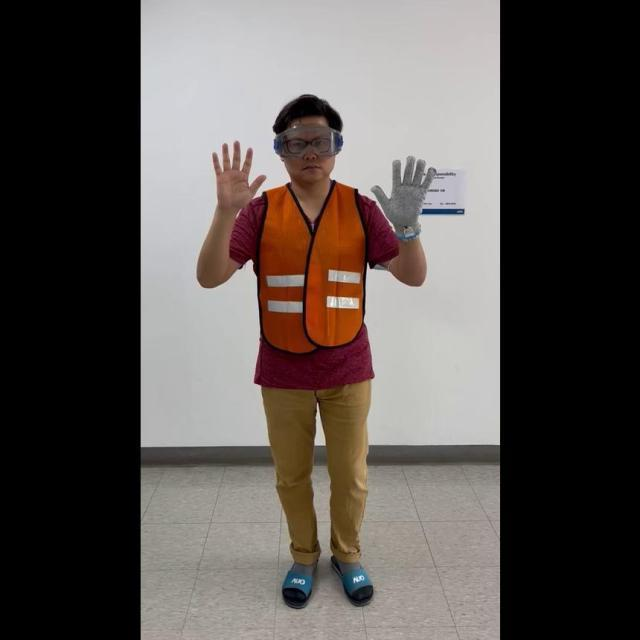bare_hand: (208, 133, 263, 211)
gloved_hand: (368, 150, 432, 238)
